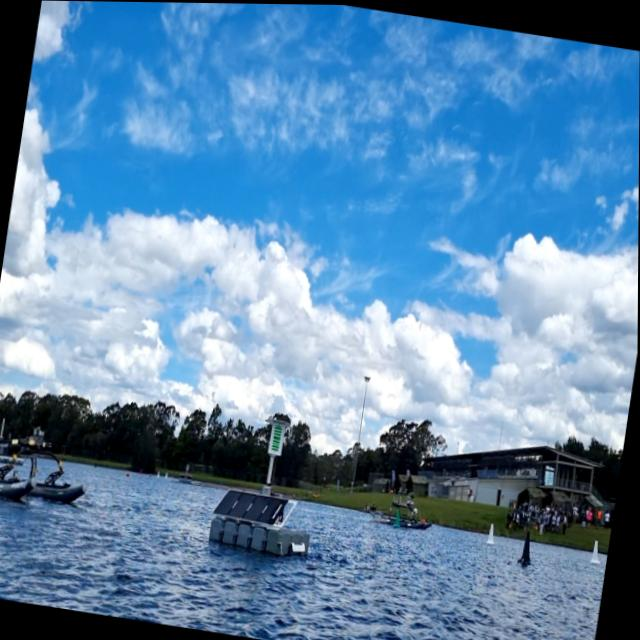led: (270, 422, 285, 453)
